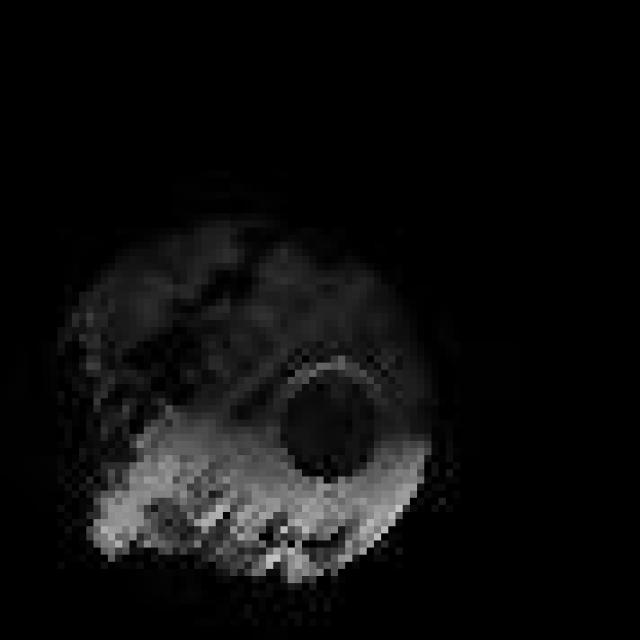Death Star: (43, 199, 453, 590)
